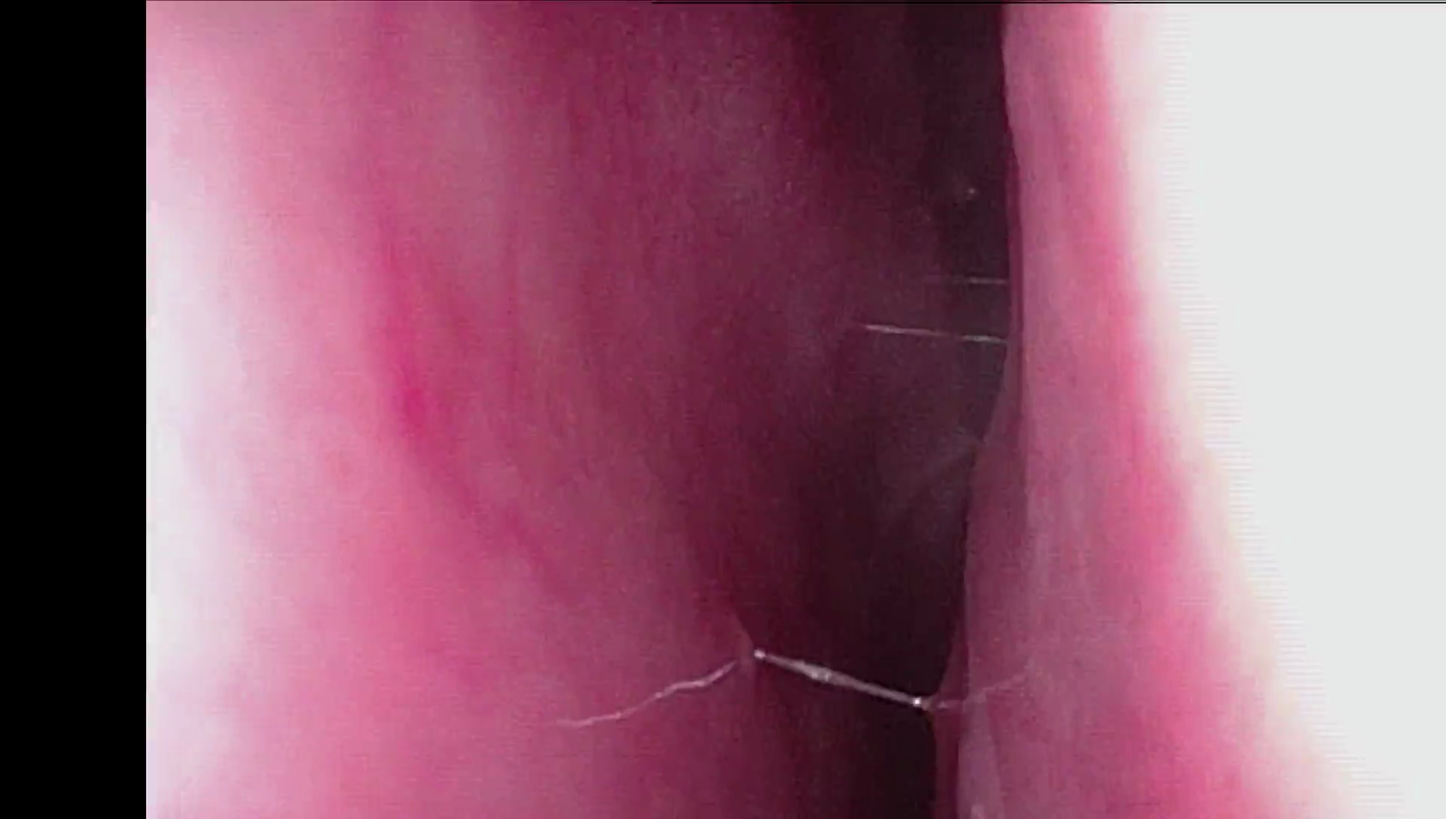close_wall: (1062, 5, 1446, 819), (155, 7, 527, 819)
next: (816, 561, 979, 819)
